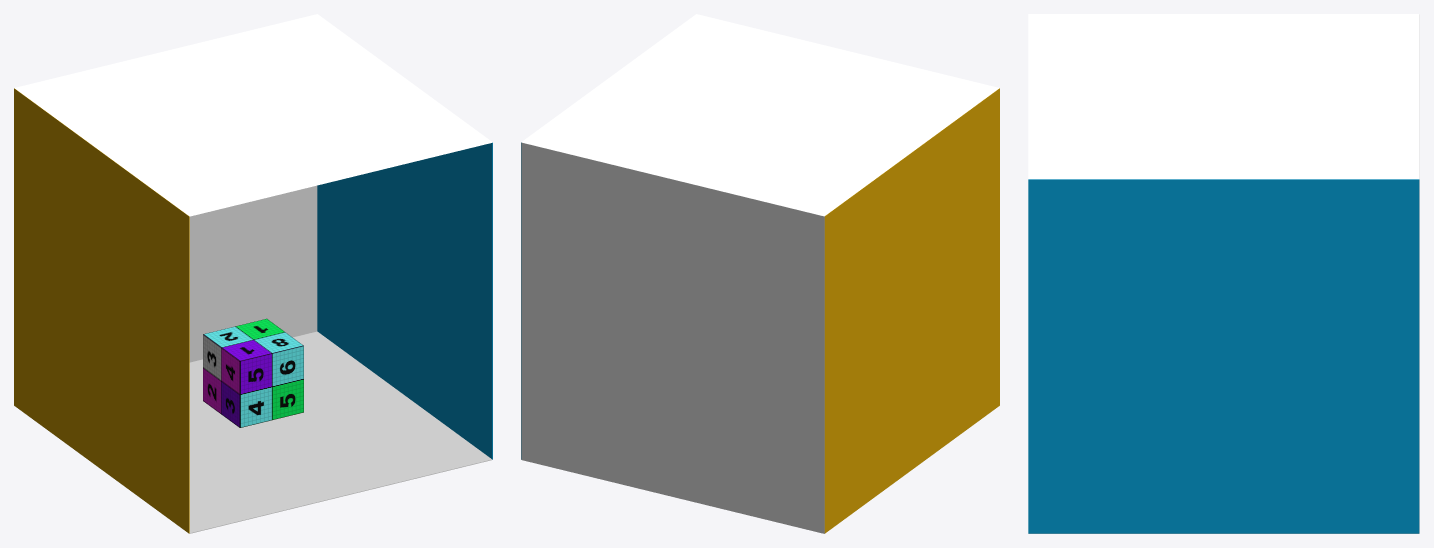
The model's file is geoms.glb.
3 views of the same model, side by side, from view 1: azimuth 30°, elevation 25°; view 2: azimuth 150°, elevation 25°; view 3: azimuth 270°, elevation 25° (orthographic). The views are drawn at different scales.
Visible parts, largest first — view 1: Cube.003, Cube.005, Cube.004, Cube.001, Cube.002, Cube; view 2: Cube.002, Cube.003, Cube.005; view 3: Cube.004, Cube.005, Cube.002.
Boxes of the visible parts, <box> form: Cube.003: <box>14,88,189,533</box>; Cube.005: <box>14,14,492,216</box>; Cube.004: <box>317,142,492,459</box>; Cube.001: <box>189,331,492,533</box>; Cube.002: <box>189,185,317,362</box>; Cube: <box>203,318,303,427</box>; Cube.002: <box>521,142,824,533</box>; Cube.003: <box>824,88,999,533</box>; Cube.005: <box>521,14,999,216</box>; Cube.004: <box>1028,179,1419,533</box>; Cube.005: <box>1028,14,1419,179</box>; Cube.002: <box>1419,14,1419,533</box>.
Bounding box in the file's own units: 50.1 × 50.1 × 50.05.
6 materials, 1 textured.
